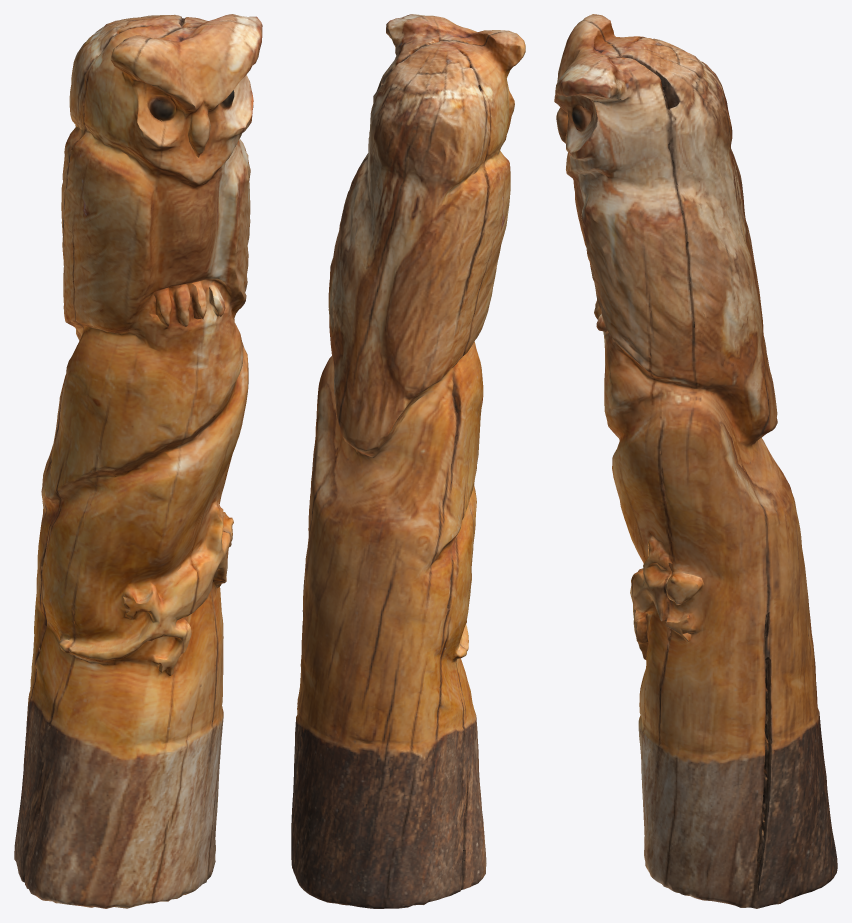
Rendered from statue.glb.
The picture shows the model from 3 angles, left to right: view 1: azimuth 30°, elevation 25°; view 2: azimuth 150°, elevation 25°; view 3: azimuth 270°, elevation 25°; orthographic projection. The views are drawn at different scales.
Visible parts, largest first — view 1: Object_2; view 2: Object_2; view 3: Object_2.
Part boxes in pixels (box(x1,y1,x2,y2)): Object_2: box(14, 14, 262, 908); Object_2: box(291, 14, 525, 908); Object_2: box(554, 14, 837, 908).
Size of the model in its own units: 0.271 by 1.23 by 0.3832.
Materials: 1 (1 with a texture image).
